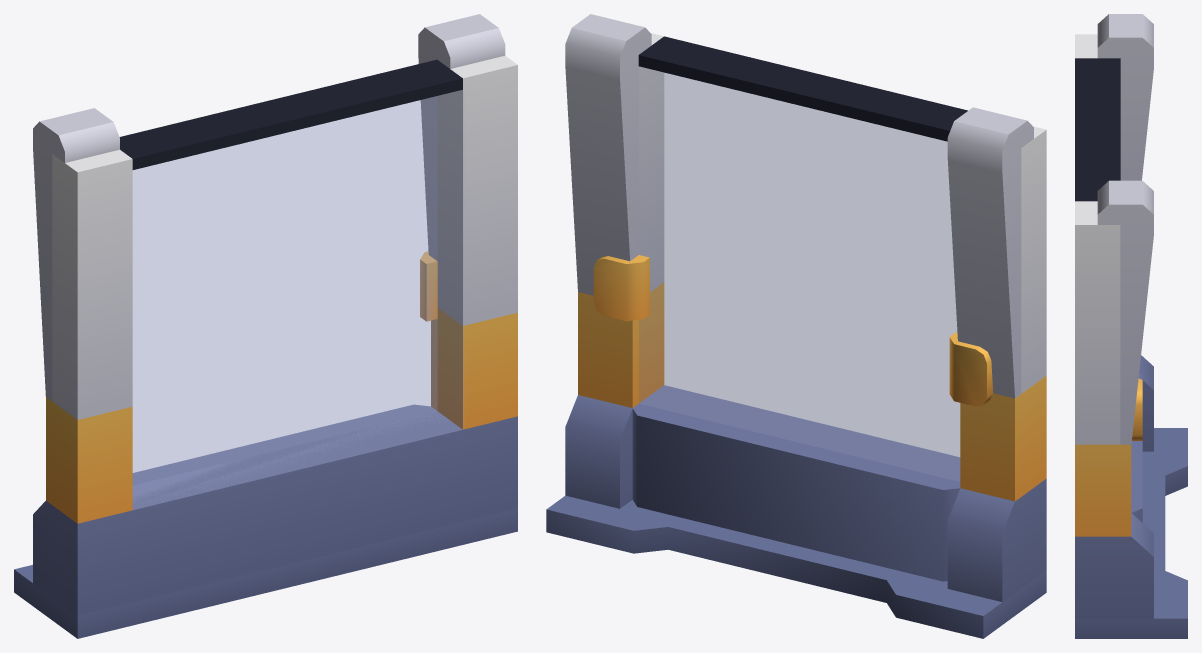
The model's file is wall.glb.
3 renders of one model, left to right at view 1: azimuth 30°, elevation 25°; view 2: azimuth 150°, elevation 25°; view 3: azimuth 270°, elevation 25°, orthographic. The views are drawn at different scales.
Visible parts, largest first — view 1: template-wall; view 2: template-wall; view 3: template-wall.
Boxes of the visible parts, box(x1,y1,x2,y2) form: template-wall: box(14, 14, 517, 638); template-wall: box(546, 14, 1046, 638); template-wall: box(1075, 14, 1187, 638).
Bounding box in the file's own units: 4 × 4.25 × 1.
3 materials, 1 textured.
